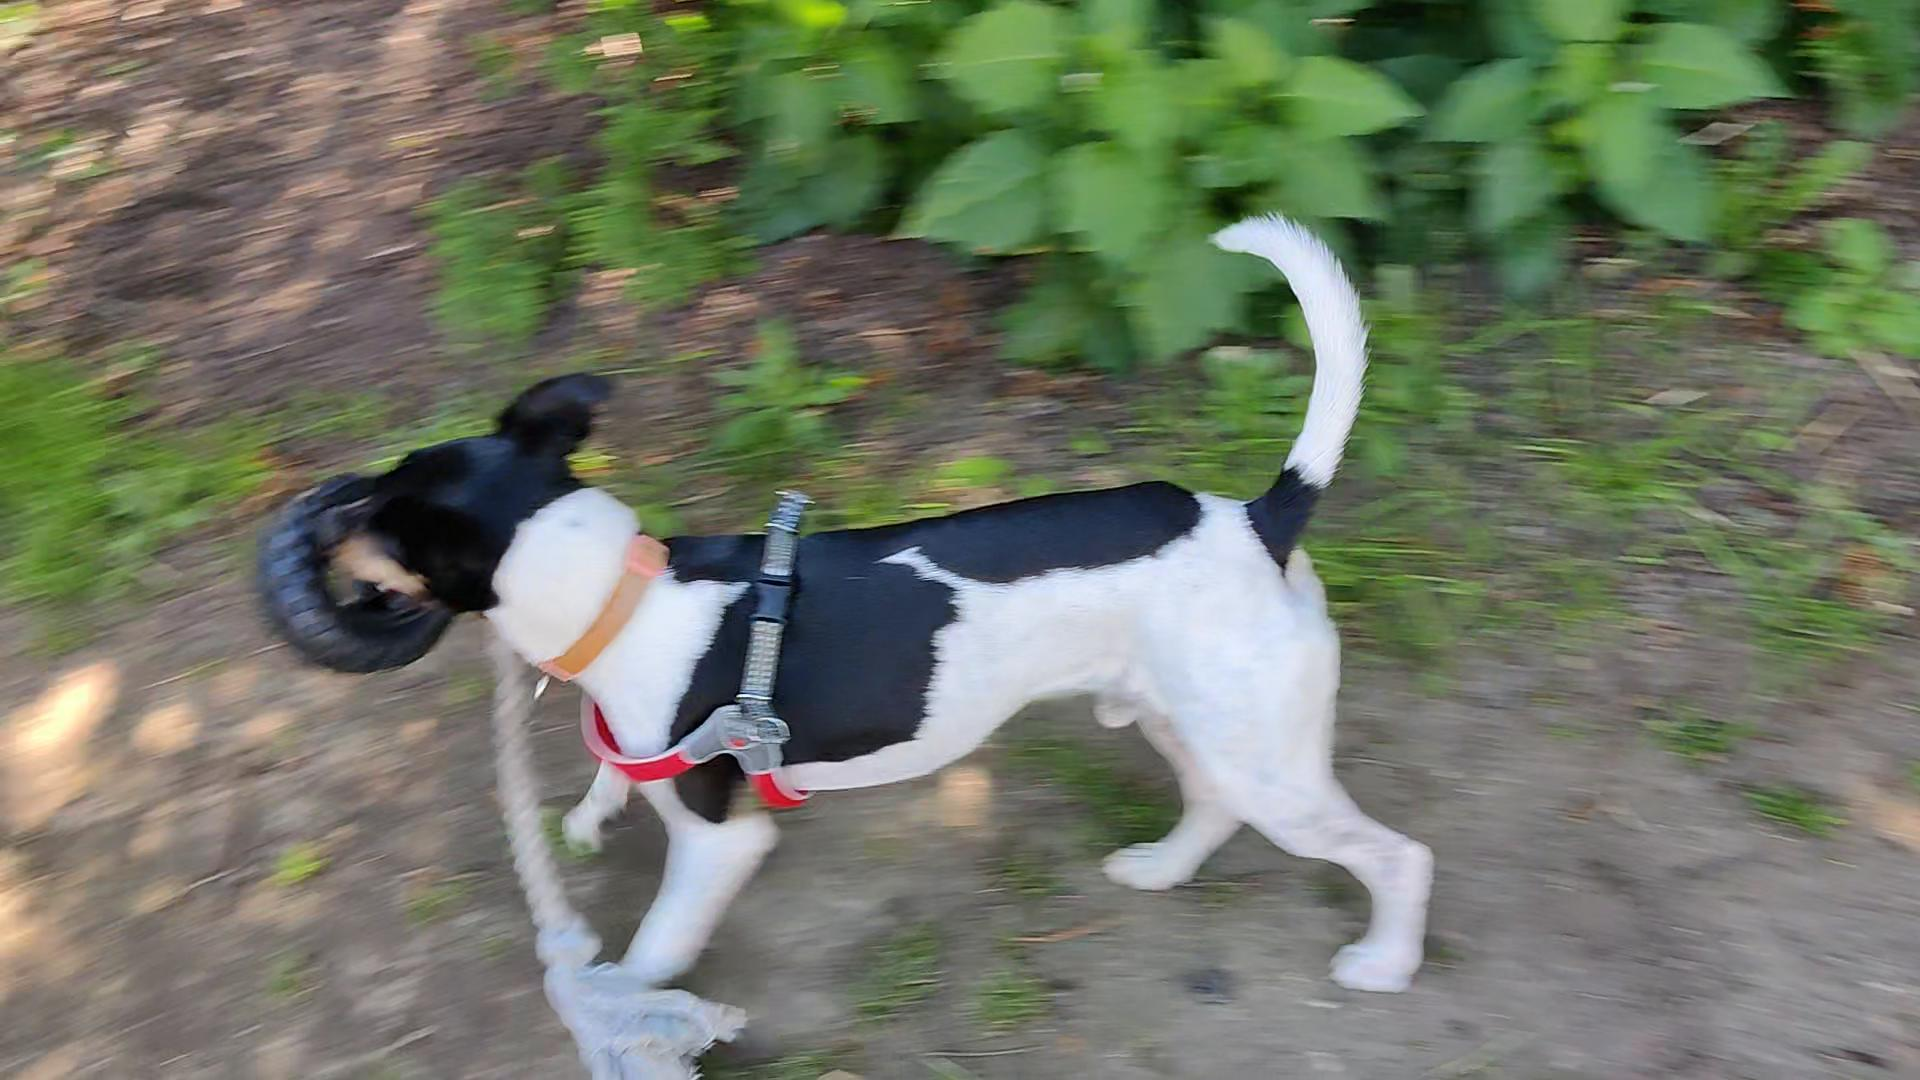Dog: (303, 193, 1440, 1042)
